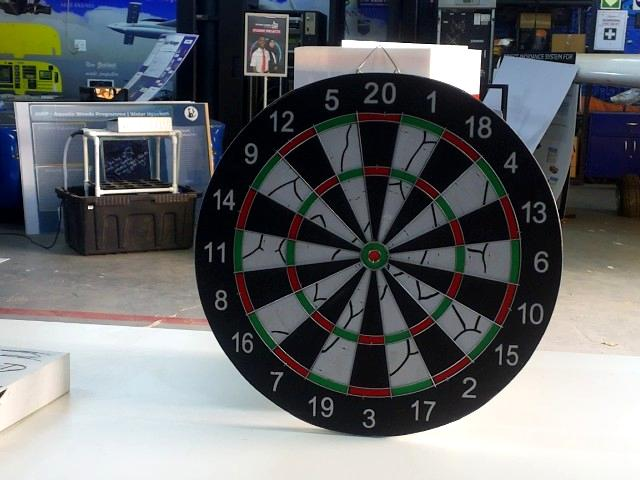single_11: (248, 237, 280, 265)
